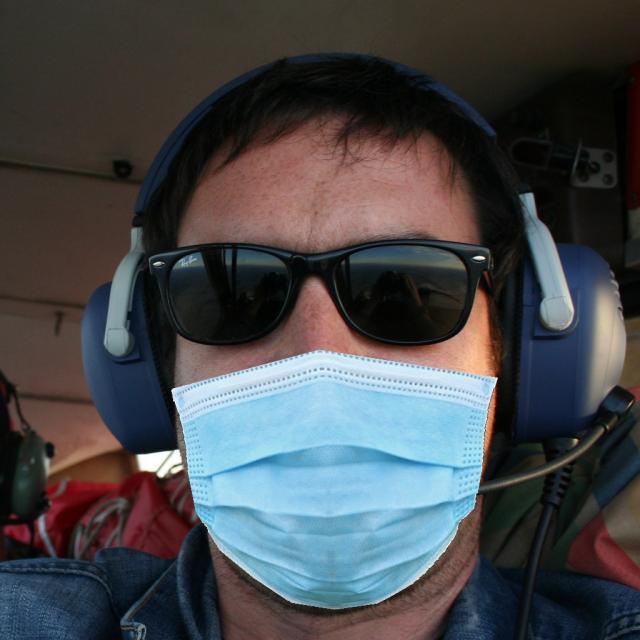2_gafas: (140, 246, 497, 344)
